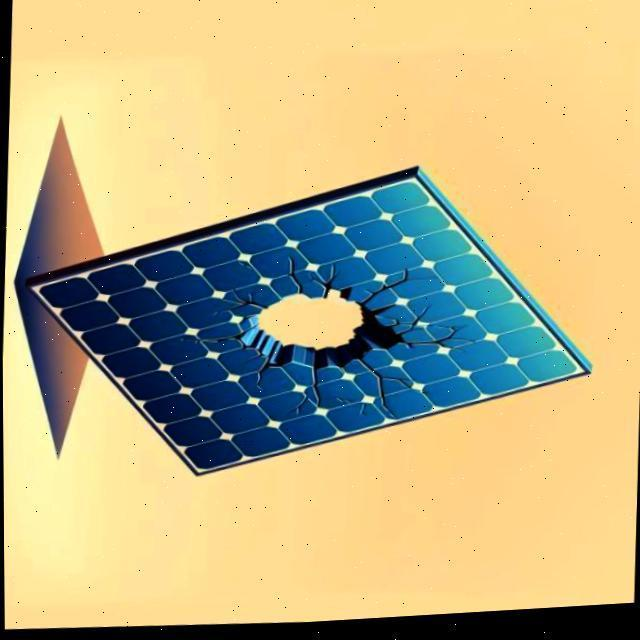Anomaly Solar Panel: (32, 152, 584, 505)
Structural Damage: (240, 287, 404, 375), (342, 344, 431, 430), (355, 263, 436, 310), (398, 324, 478, 359), (308, 365, 353, 412), (381, 307, 437, 342), (210, 287, 267, 318), (307, 259, 345, 297), (182, 329, 249, 348), (280, 257, 306, 298), (252, 361, 270, 393), (286, 396, 309, 421), (236, 355, 263, 368), (357, 405, 367, 419)
